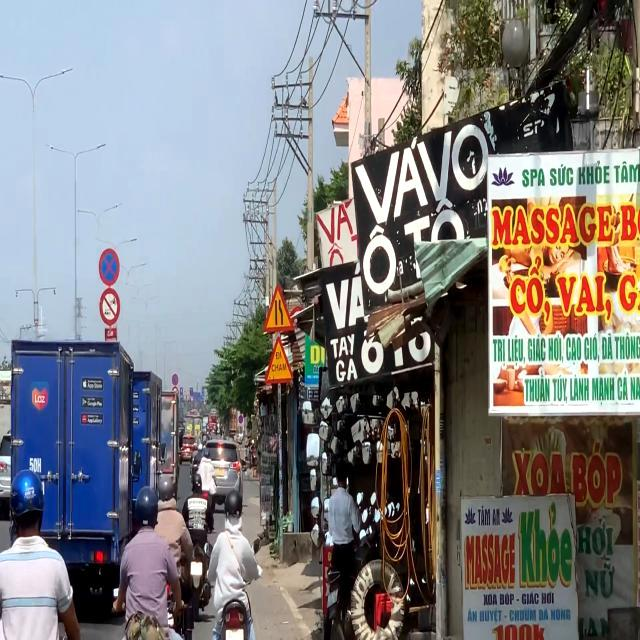Cam dung xe va do xe: (98, 247, 120, 288)
Di cham: (264, 334, 295, 386)
